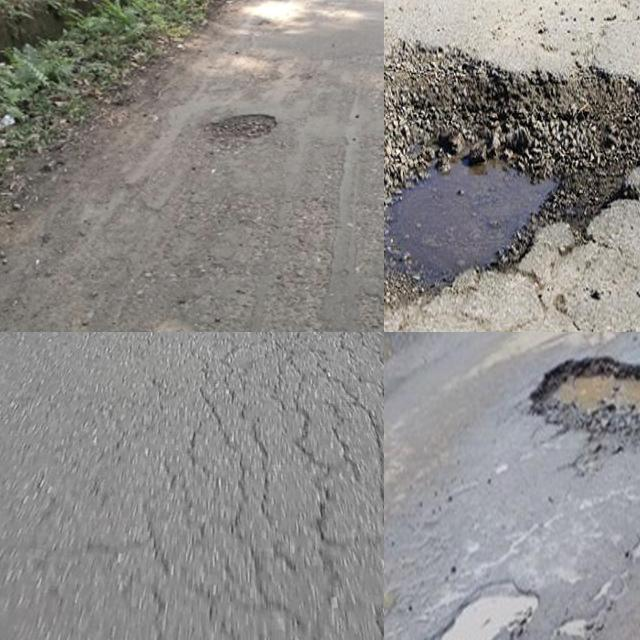Lubang: (384, 50, 640, 309), (534, 362, 640, 446), (425, 583, 538, 640), (194, 110, 279, 159)
Retak Buaya: (148, 375, 384, 640)
